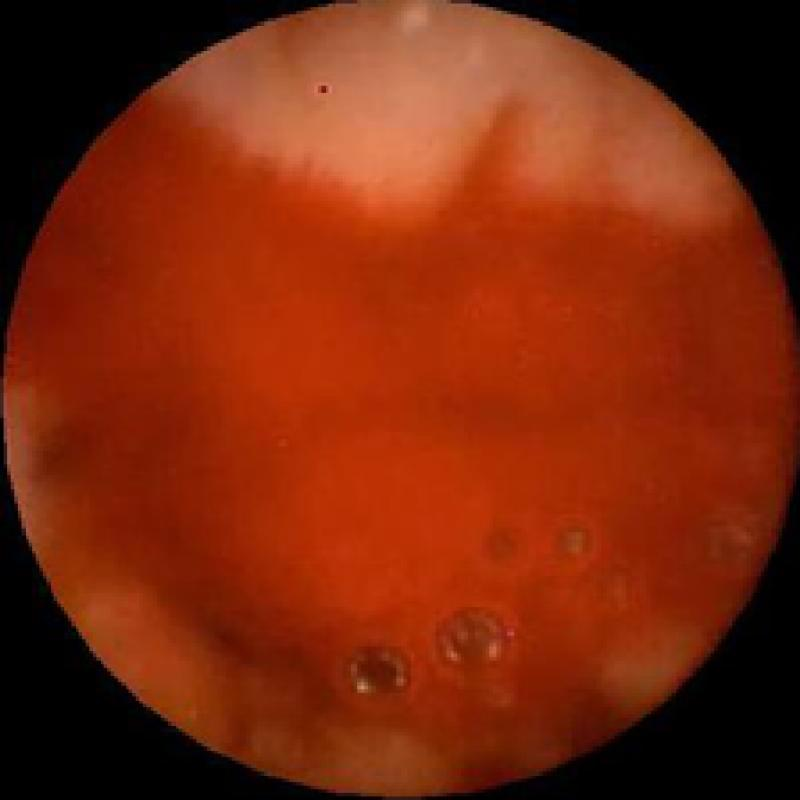bleeding: (118, 96, 668, 746)
